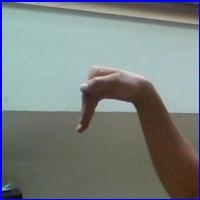del: (72, 62, 157, 141)
